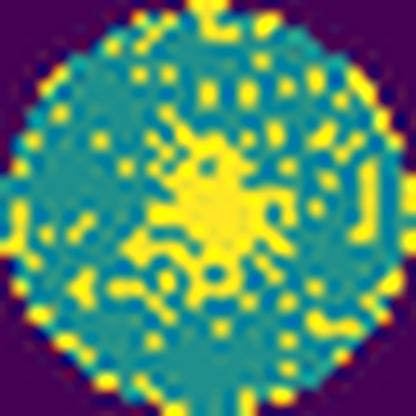Center: (119, 105, 299, 318)
